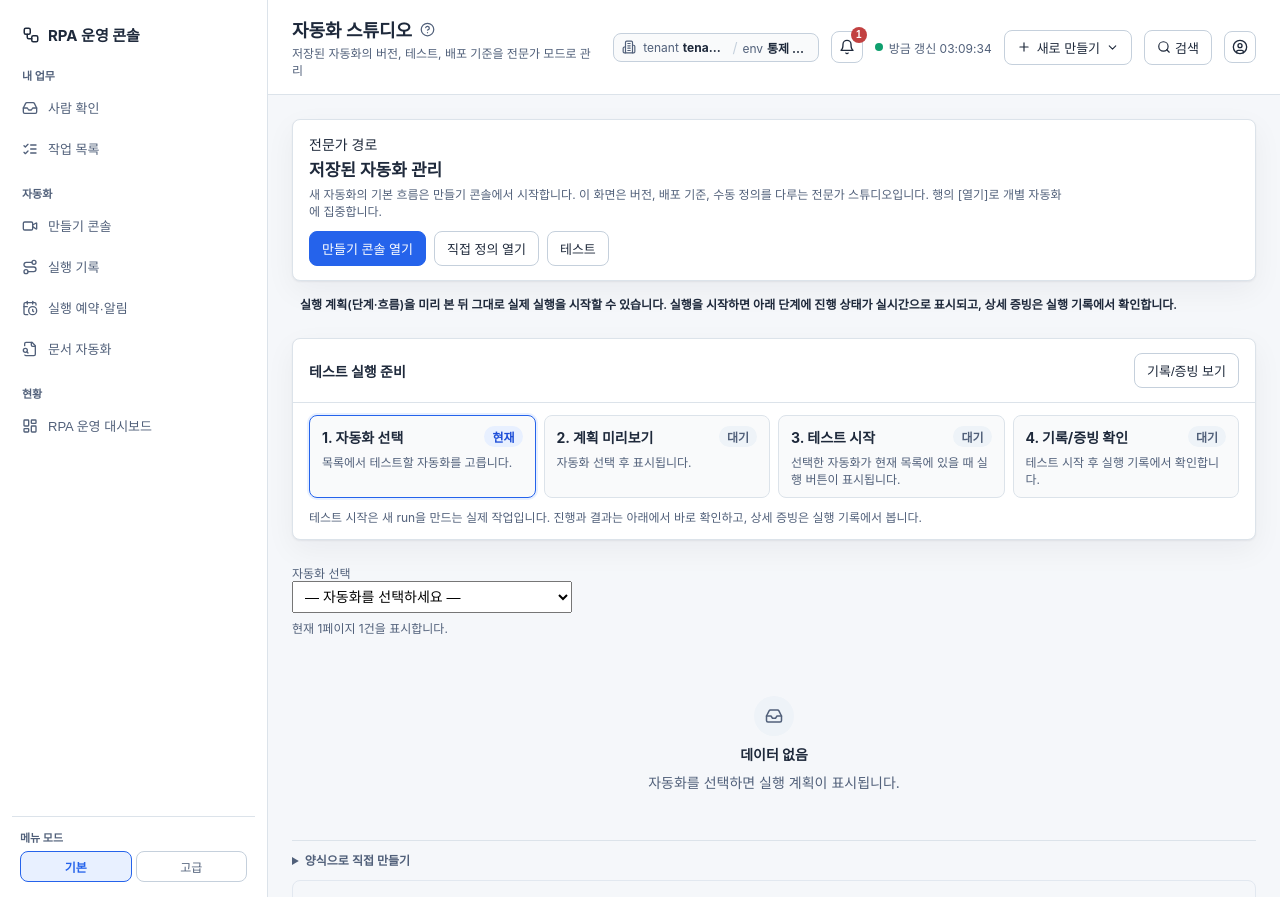
Test: RunScenarioButton URL memory › prefills URL params from the last successful execution
The image size is (1280, 897).
Select "reviews (변경 2)" in the dropdown at (432, 597), box [292, 581, 572, 613]
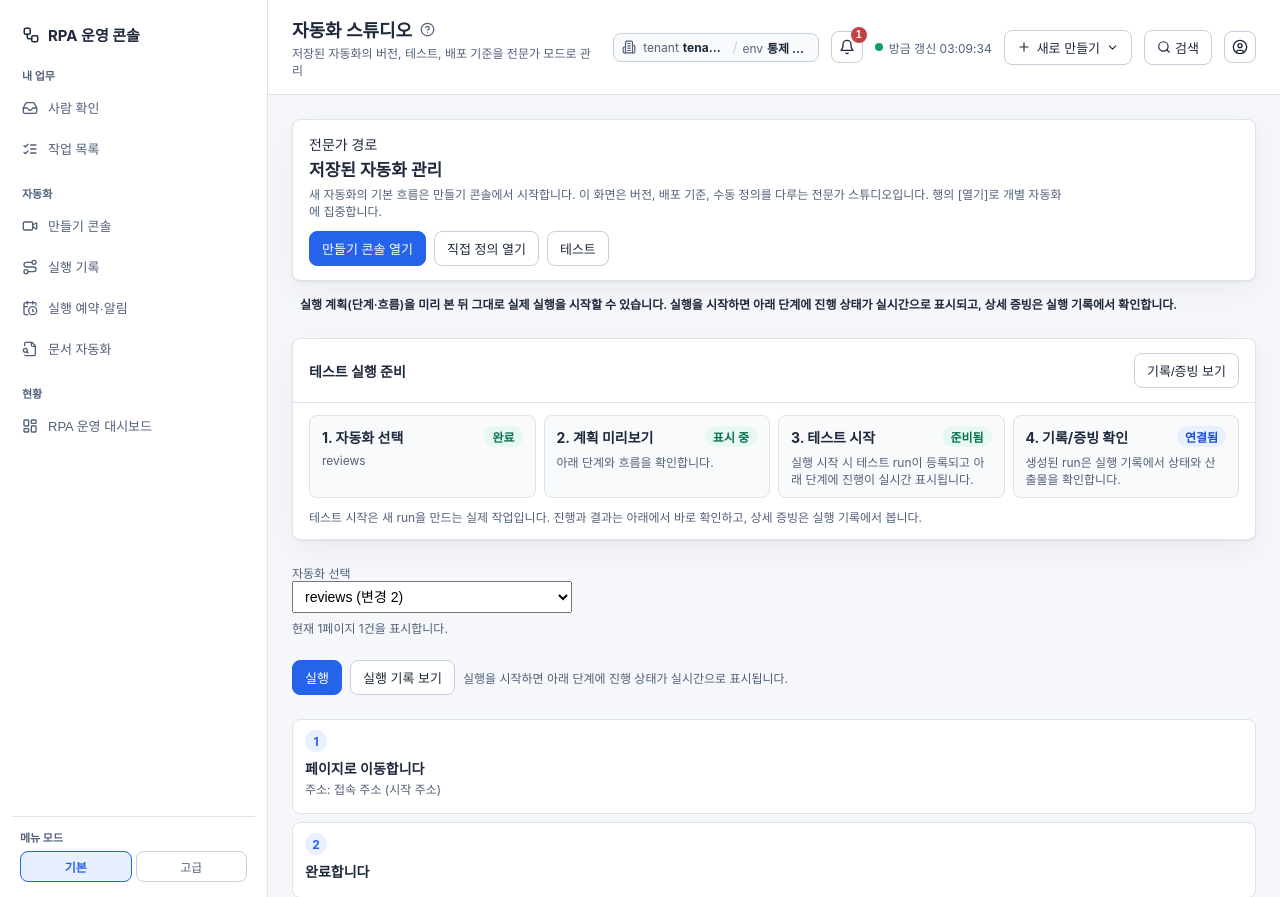
Click the button "실행".
click(317, 678)  # box [292, 660, 342, 695]
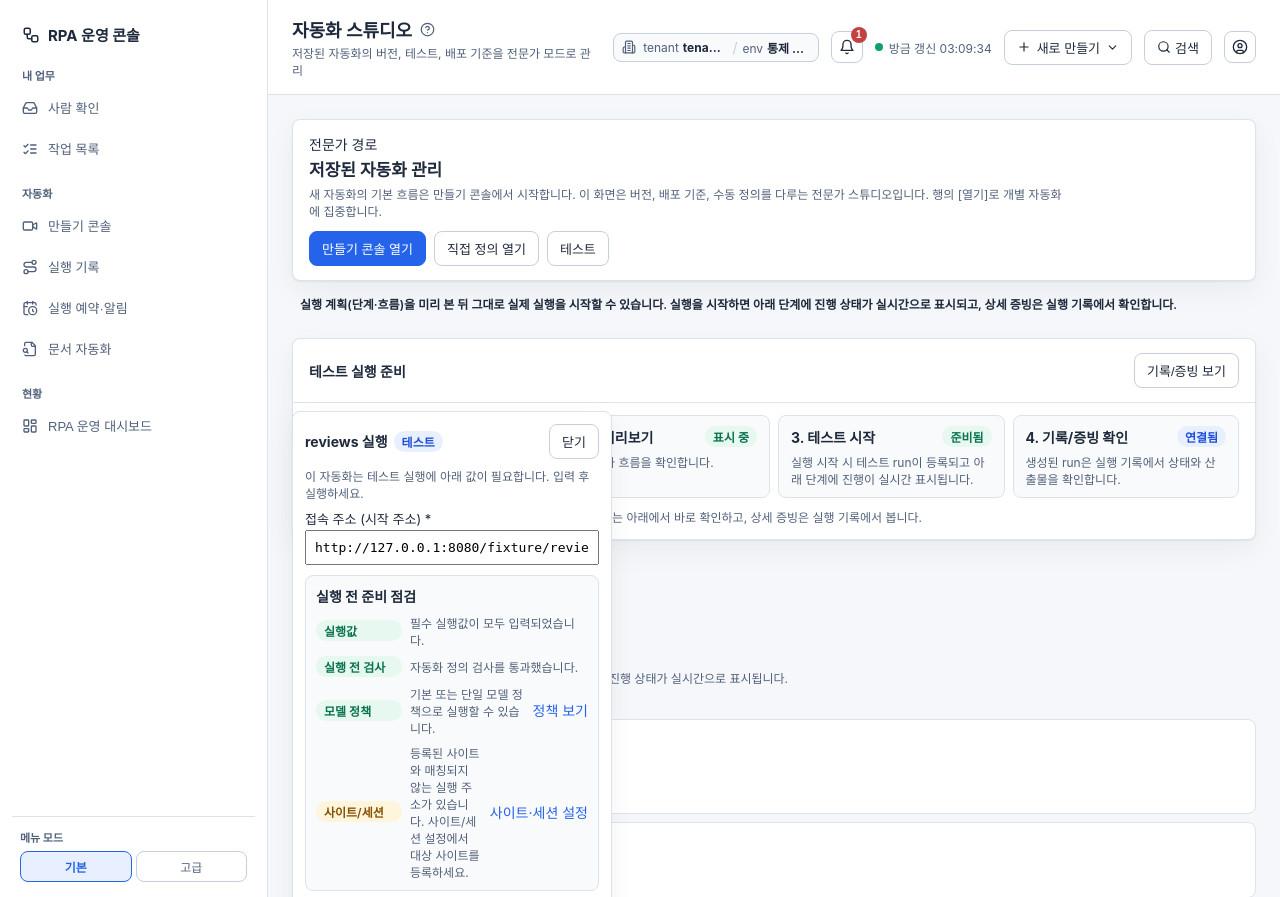
Now the field labelled "접속 주소 (시작 주소)" holds "http://127.0.0.1:8080/fixture/reviews", box [305, 530, 599, 564]
